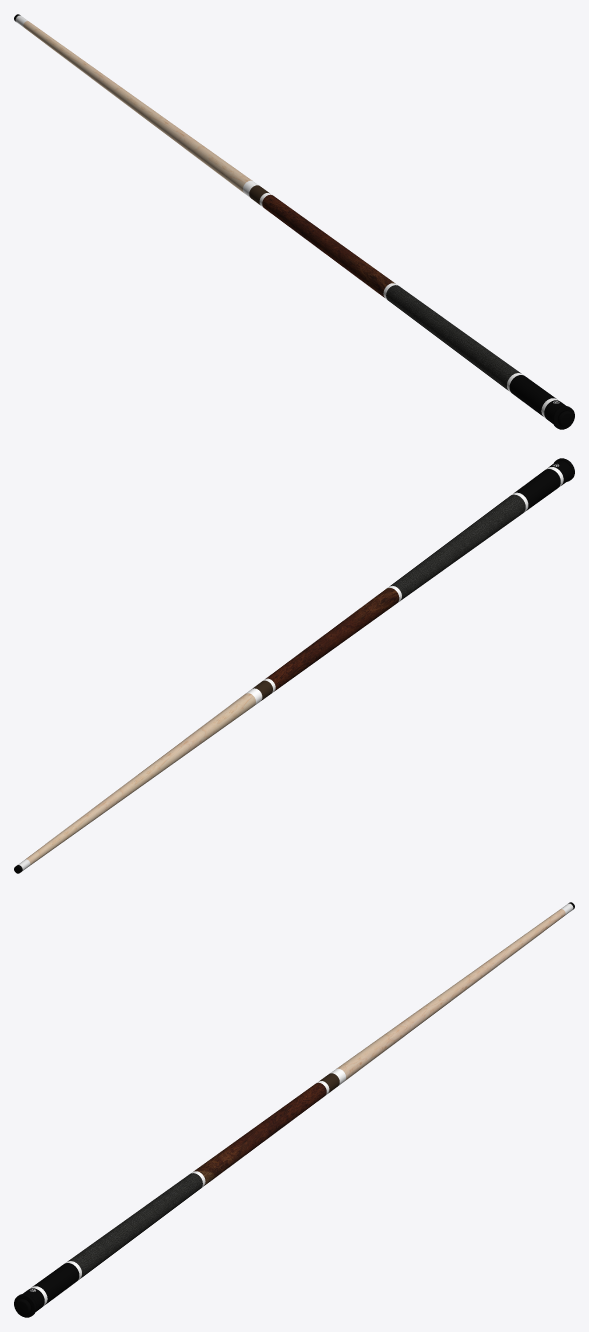
File: StandardCue_v2.glb
The picture shows the model from 3 angles, top to bottom: view 1: azimuth 30°, elevation 25°; view 2: azimuth 150°, elevation 25°; view 3: azimuth 330°, elevation 25°; orthographic projection.
Parts seen in each view (by area): view 1: Shaft, Handle, Forearm, Butt Sleeve; view 2: Shaft, Handle, Forearm, Butt Sleeve; view 3: Shaft, Handle, Forearm, Butt Sleeve.
Boxes of the visible parts, left/top/right/bottom form: Shaft: left=23, top=21, right=252, bottom=193; Handle: left=386, top=285, right=521, bottom=390; Forearm: left=262, top=194, right=395, bottom=297; Butt Sleeve: left=509, top=375, right=556, bottom=416; Shaft: left=25, top=693, right=255, bottom=865; Handle: left=390, top=494, right=525, bottom=600; Forearm: left=265, top=588, right=399, bottom=691; Butt Sleeve: left=514, top=469, right=560, bottom=510; Shaft: left=336, top=909, right=565, bottom=1081; Handle: left=67, top=1173, right=202, bottom=1278; Forearm: left=193, top=1082, right=326, bottom=1185; Butt Sleeve: left=32, top=1263, right=79, bottom=1304.
Size of the model in its own units: 28 by 28 by 1255.
9 materials, 4 textured.
